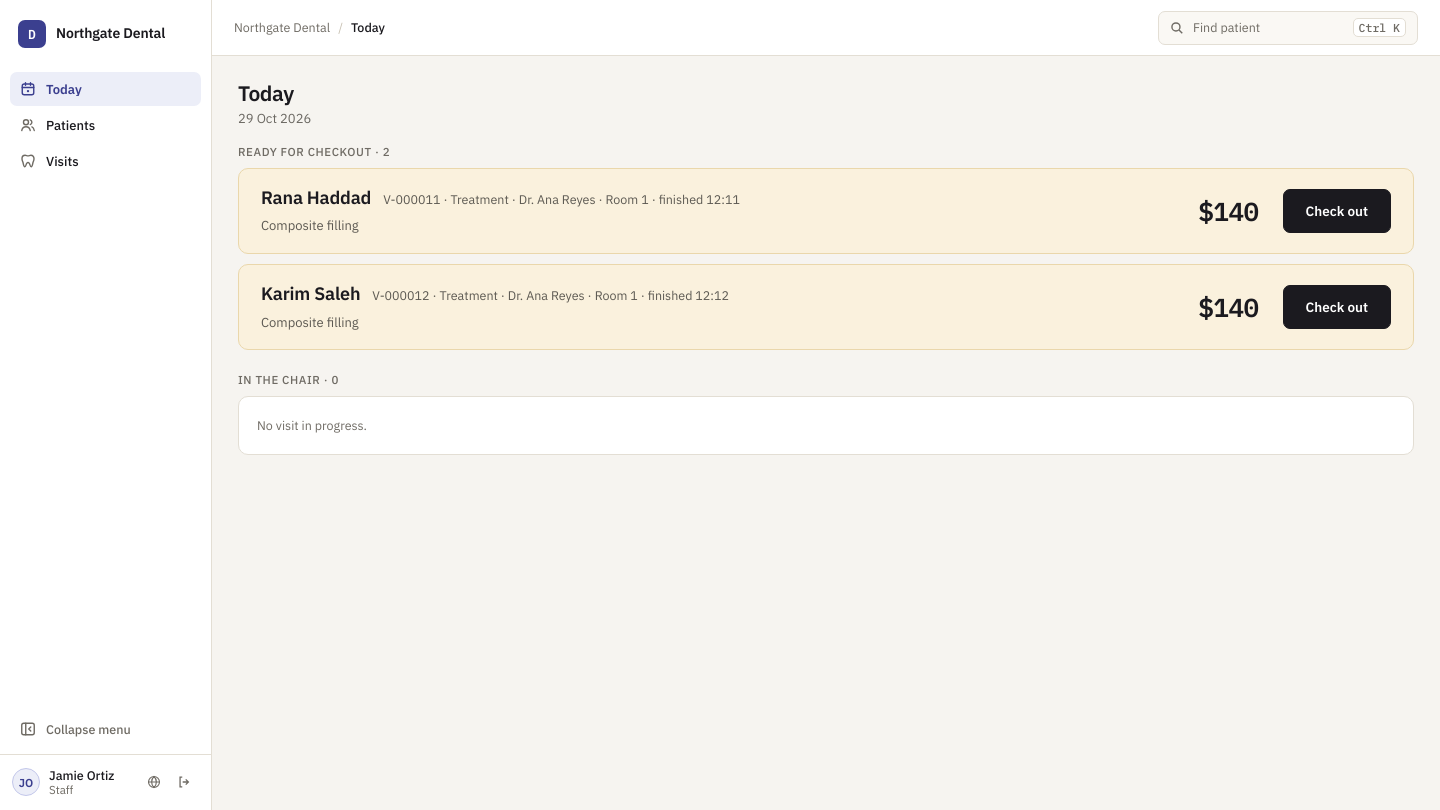
Test: TodayPage › Check out opens the checkout dialog, which stays once the visit is paid, until Done
Click the button with aria-label "Check out Rana Haddad": (1337, 211) [1283, 189, 1391, 233]
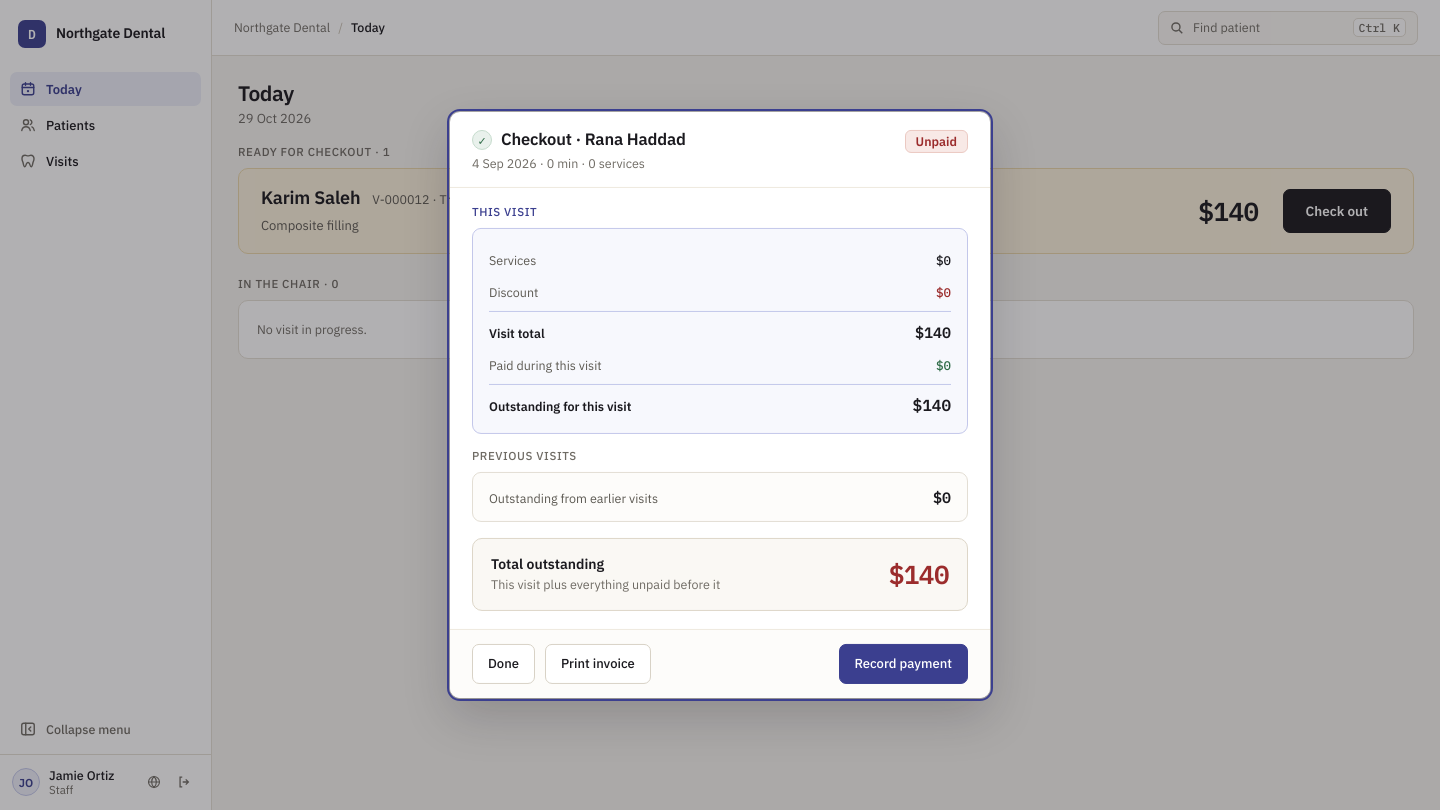
Expected: the text "Unpaid" is shown, [905, 130, 968, 152]
Expected: the text "Outstanding for this visit" is shown, [489, 398, 631, 414]
Expected: the button "Print invoice" is shown, [545, 644, 651, 684]
Click the button "Done": (503, 664) [472, 644, 535, 684]
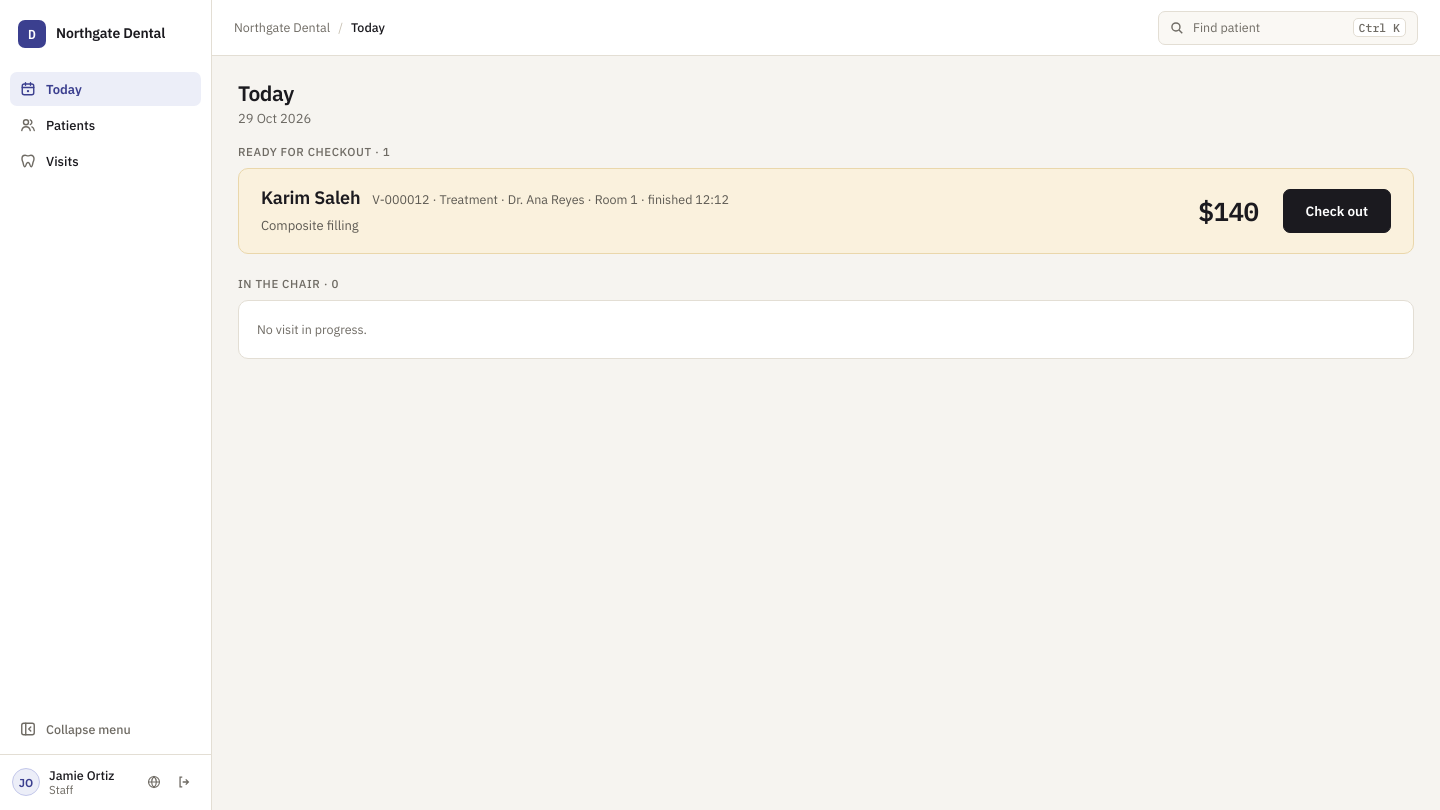
Expected: the element "Ready for checkout · 1" is shown, [238, 146, 1414, 254]
Expected: the dialog is gone
